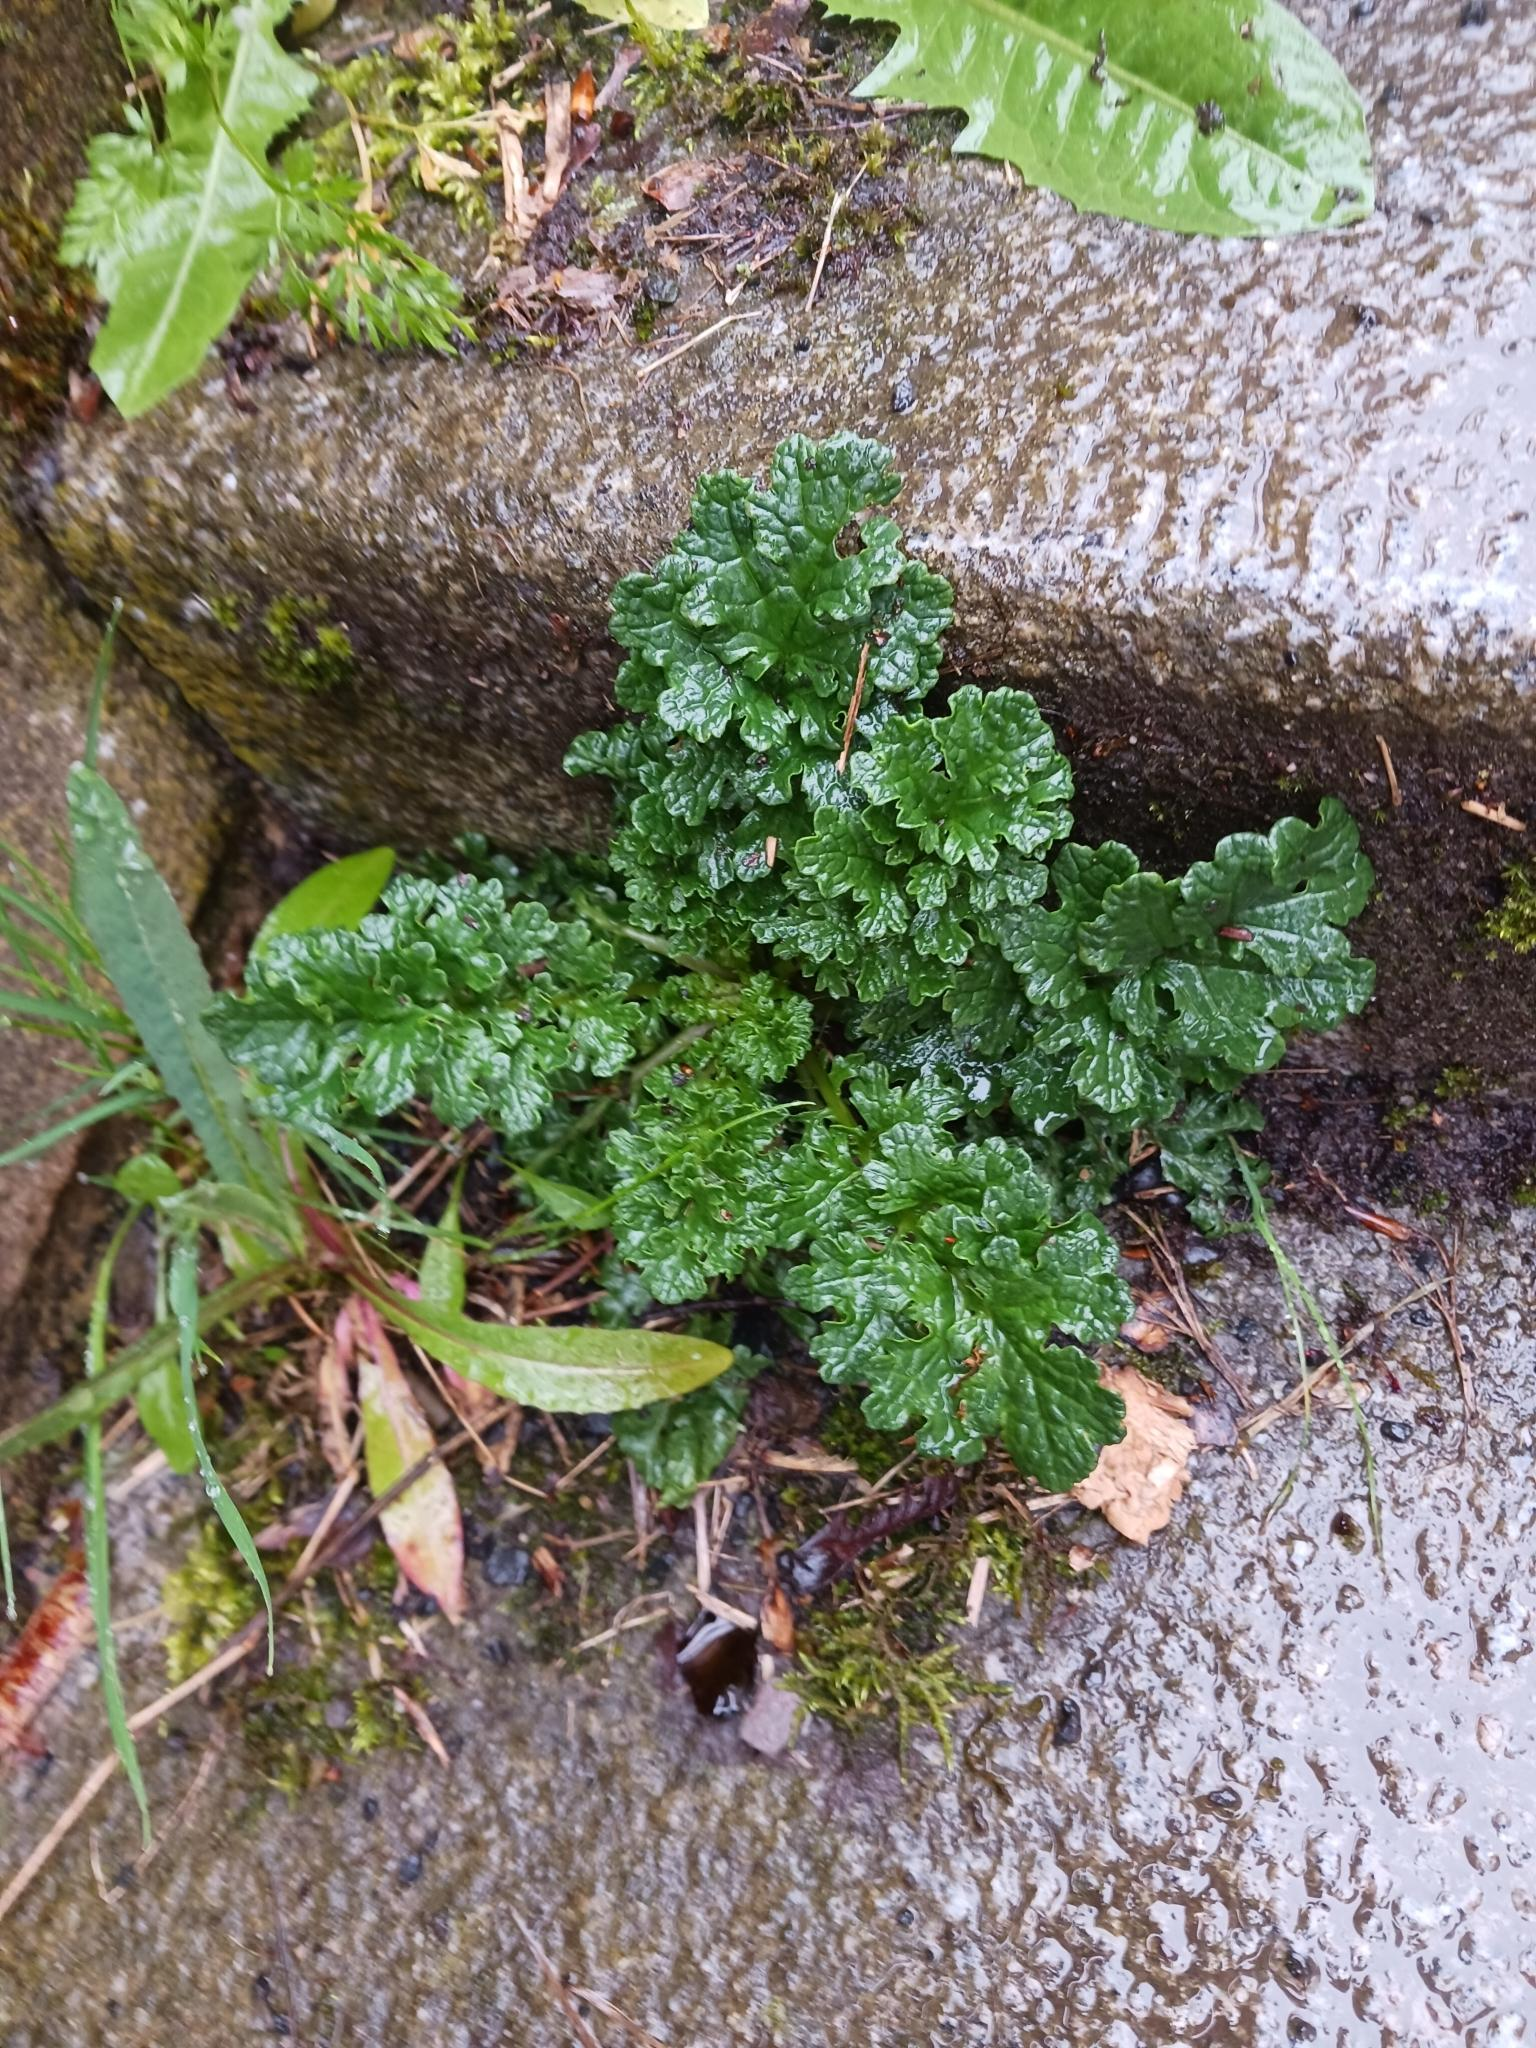Jacobaea vulgaris: (207, 413, 1400, 1517)
